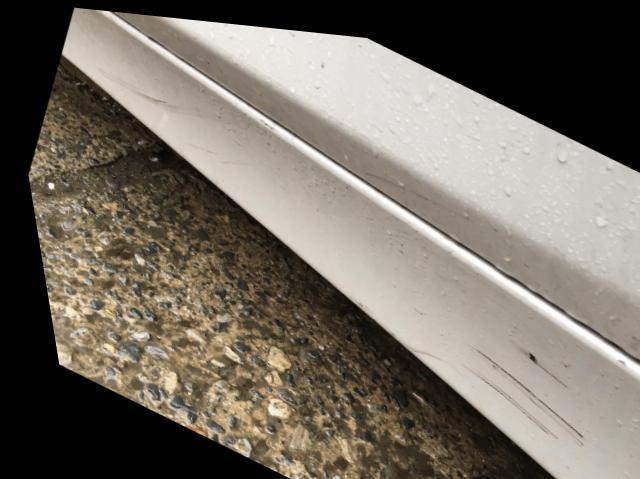crack: (122, 79, 164, 101), (514, 338, 528, 356)
scratch: (459, 335, 573, 429), (444, 350, 547, 426), (524, 350, 558, 381), (175, 133, 213, 153), (214, 155, 248, 161)
